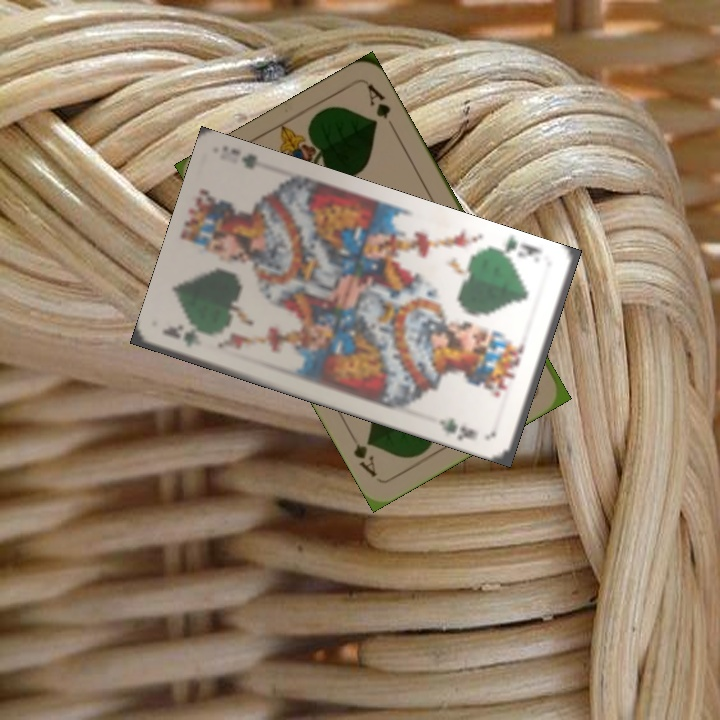GK: (492, 234, 545, 263), (159, 321, 199, 350)
